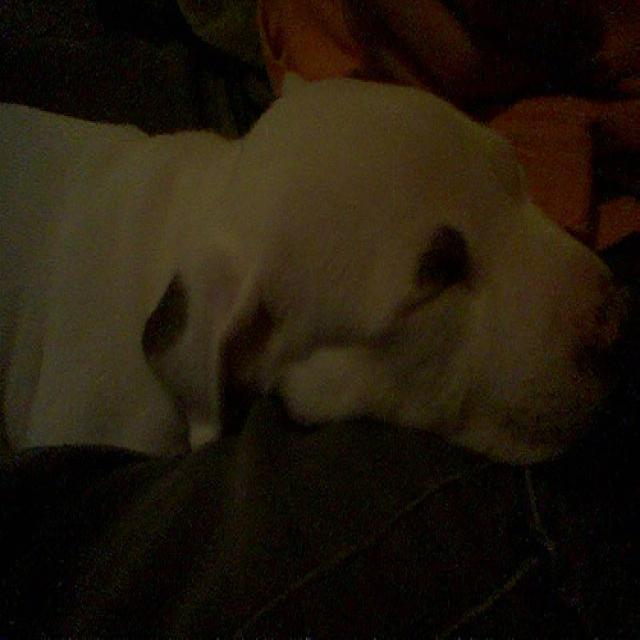Dog: (47, 56, 640, 541)
